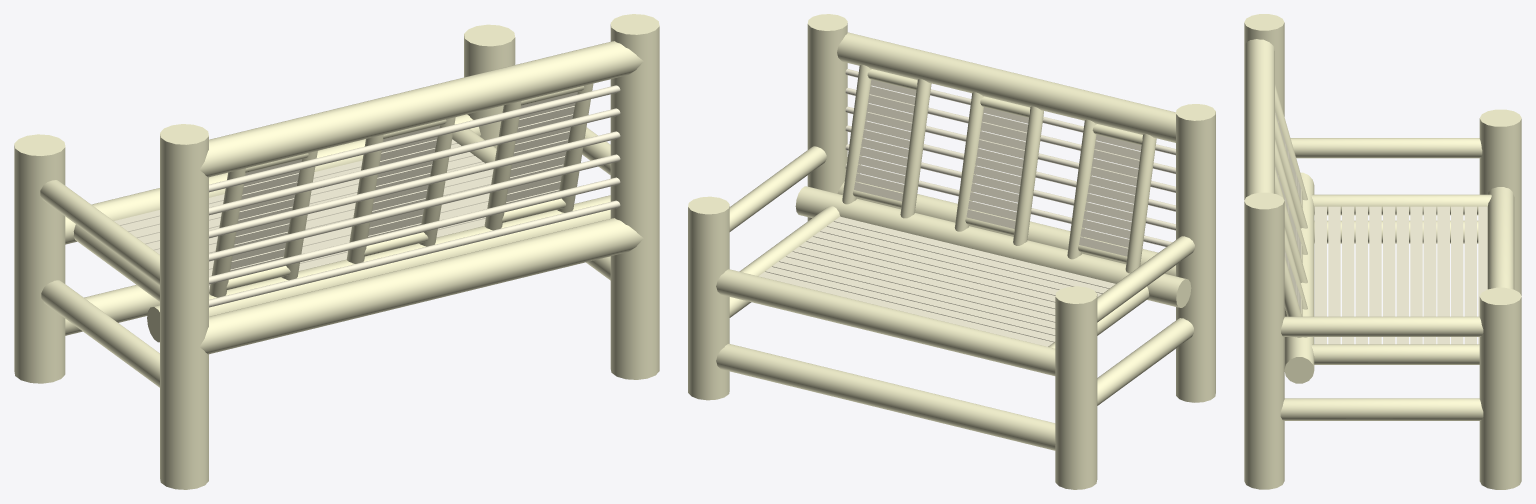
File: kursi bambu.fbx
The picture shows the model from 3 angles, left to right: view 1: azimuth 30°, elevation 25°; view 2: azimuth 150°, elevation 25°; view 3: azimuth 270°, elevation 25°; orthographic projection. The views are drawn at different scales.
Parts seen in each view (by area): view 1: Cylinder.010, Cylinder.019, Cylinder.015, Cylinder.009, Cube.001, Cylinder.002, Cube, Cylinder.007, Cylinder.003, Cylinder.001, Cylinder.005, Cylinder.008 (+1 smaller); view 2: Cube, Cylinder.003, Cylinder.010, Cylinder.009, Cube.001, Cylinder.019, Cylinder.002, Cylinder.007, Cylinder.015, Cylinder.005, Cylinder.001, Cylinder.008 (+1 smaller); view 3: Cube, Cylinder.010, Cylinder.009, Cylinder.005, Cylinder.004, Cylinder.001, Cylinder.019, Cylinder.002, Cylinder.007, Cylinder.003, Cube.001.
Part boxes in pixels (x1=…): Cylinder.010: x1=160, y1=14, x2=659, y2=489; Cylinder.019: x1=199, y1=41, x2=643, y2=354; Cylinder.015: x1=209, y1=85, x2=620, y2=307; Cylinder.009: x1=14, y1=24, x2=515, y2=383; Cube.001: x1=230, y1=92, x2=577, y2=271; Cylinder.002: x1=209, y1=83, x2=593, y2=297; Cube: x1=114, y1=139, x2=493, y2=291; Cylinder.007: x1=147, y1=195, x2=610, y2=342; Cylinder.003: x1=65, y1=114, x2=480, y2=335; Cylinder.001: x1=41, y1=256, x2=610, y2=387; Cylinder.005: x1=40, y1=127, x2=610, y2=285; Cylinder.008: x1=226, y1=86, x2=584, y2=289; Cube: x1=759, y1=216, x2=1115, y2=346; Cylinder.003: x1=716, y1=269, x2=1055, y2=450; Cylinder.010: x1=807, y1=14, x2=1215, y2=402; Cylinder.009: x1=688, y1=196, x2=1097, y2=489; Cube.001: x1=854, y1=79, x2=1141, y2=256; Cylinder.019: x1=837, y1=32, x2=1175, y2=276; Cylinder.002: x1=842, y1=64, x2=1156, y2=273; Cylinder.007: x1=795, y1=186, x2=1191, y2=307; Cylinder.015: x1=845, y1=69, x2=1175, y2=246; Cylinder.005: x1=729, y1=146, x2=1194, y2=322; Cylinder.001: x1=729, y1=297, x2=1193, y2=405; Cylinder.008: x1=853, y1=69, x2=1142, y2=262; Cube: x1=1314, y1=206, x2=1487, y2=344; Cylinder.010: x1=1244, y1=14, x2=1284, y2=489; Cylinder.009: x1=1479, y1=109, x2=1521, y2=489; Cylinder.005: x1=1281, y1=138, x2=1483, y2=336; Cylinder.004: x1=1311, y1=194, x2=1491, y2=364; Cylinder.001: x1=1280, y1=220, x2=1483, y2=420; Cylinder.019: x1=1245, y1=39, x2=1274, y2=198; Cylinder.002: x1=1275, y1=84, x2=1307, y2=337; Cylinder.007: x1=1284, y1=172, x2=1314, y2=383; Cylinder.003: x1=1487, y1=187, x2=1514, y2=289; Cube.001: x1=1275, y1=111, x2=1301, y2=312.
Bounding box in the file's own units: 1104 × 738 × 662.
